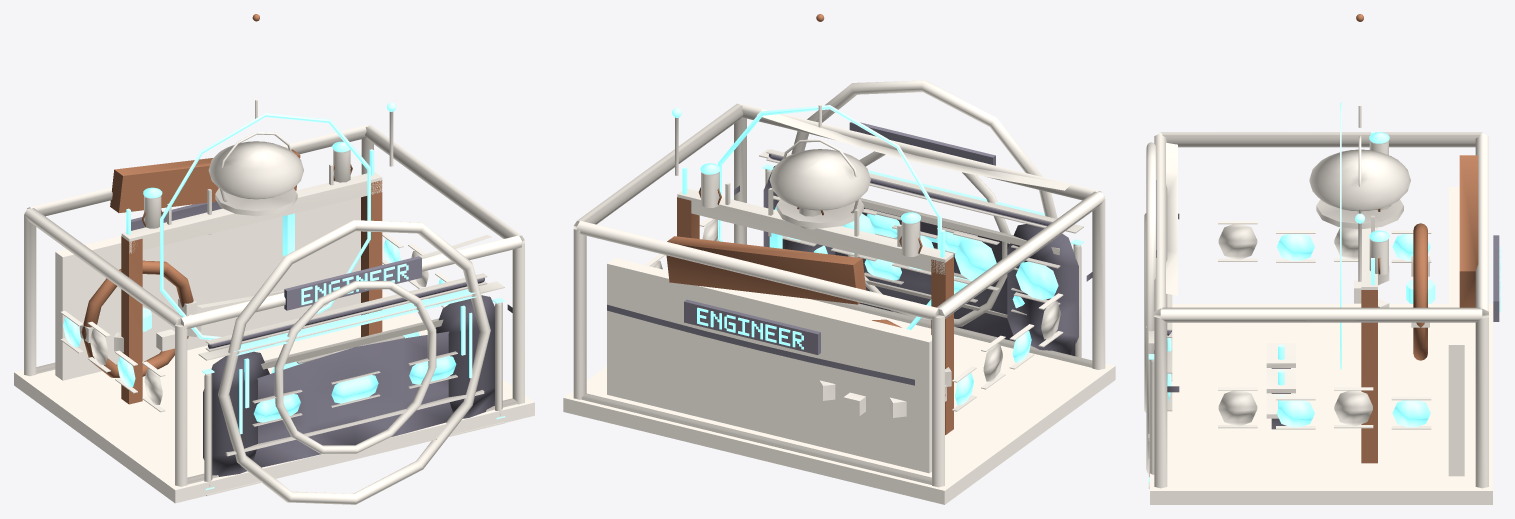
File: engineering-workshop.glb
The picture shows the model from 3 angles, left to right: view 1: azimuth 30°, elevation 25°; view 2: azimuth 150°, elevation 25°; view 3: azimuth 270°, elevation 25°; orthographic projection. The views are drawn at different scales.
Parts seen in each view (by area): view 1: engineering-workshop:near:surface:0, engineering-workshop:far:surface:0, engineering-workshop:near:surface:1, engineering-workshop:near:surface:2, engineering-workshop:near:surface:3, engineering-workshop:city-identity:bridge; view 2: engineering-workshop:far:surface:0, engineering-workshop:near:surface:0, engineering-workshop:near:surface:1, engineering-workshop:near:surface:2, engineering-workshop:city-identity:bridge, engineering-workshop:near:surface:3; view 3: engineering-workshop:far:surface:0, engineering-workshop:near:surface:0, engineering-workshop:near:surface:2, engineering-workshop:near:surface:3, engineering-workshop:city-identity:bridge, engineering-workshop:near:surface:1.
Part boxes in pixels (box(x1,y1,x2,y2)): engineering-workshop:near:surface:0: box(24, 99, 524, 504); engineering-workshop:far:surface:0: box(14, 197, 534, 503); engineering-workshop:near:surface:1: box(131, 201, 512, 476); engineering-workshop:near:surface:2: box(63, 102, 505, 490); engineering-workshop:near:surface:3: box(81, 14, 382, 404); engineering-workshop:city-identity:bridge: box(110, 149, 300, 212); engineering-workshop:far:surface:0: box(563, 258, 1115, 504); engineering-workshop:near:surface:0: box(573, 80, 1105, 487); engineering-workshop:near:surface:1: box(607, 122, 1092, 385); engineering-workshop:near:surface:2: box(672, 105, 1084, 404); engineering-workshop:city-identity:bridge: box(666, 236, 865, 304); engineering-workshop:near:surface:3: box(677, 14, 953, 434); engineering-workshop:far:surface:0: box(1150, 187, 1492, 504); engineering-workshop:near:surface:0: box(1144, 104, 1488, 488); engineering-workshop:near:surface:2: box(1146, 102, 1500, 482); engineering-workshop:near:surface:3: box(1356, 14, 1427, 463); engineering-workshop:city-identity:bridge: box(1459, 155, 1478, 307); engineering-workshop:near:surface:1: box(1154, 180, 1499, 429).
Size of the model in its own units: 16.5 by 18.36 by 13.3.
